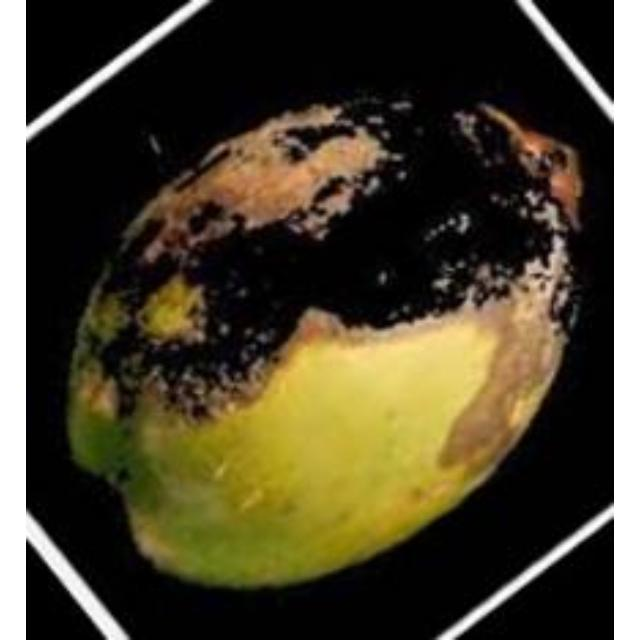damaged: (70, 93, 578, 585)
